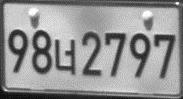2: (80, 29, 103, 77)
7: (103, 31, 127, 78), (153, 33, 175, 80)
8: (31, 29, 52, 74)
9: (129, 31, 151, 79), (7, 28, 28, 73)
너: (53, 37, 76, 75)
